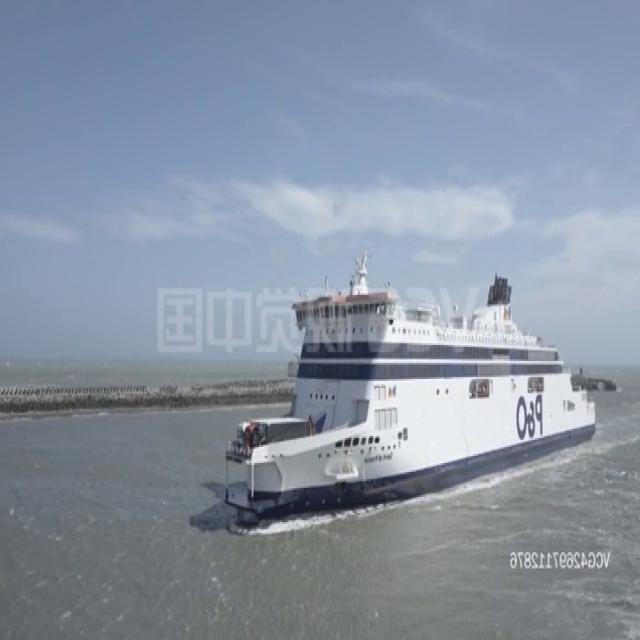passenger ship: (222, 266, 608, 524)
